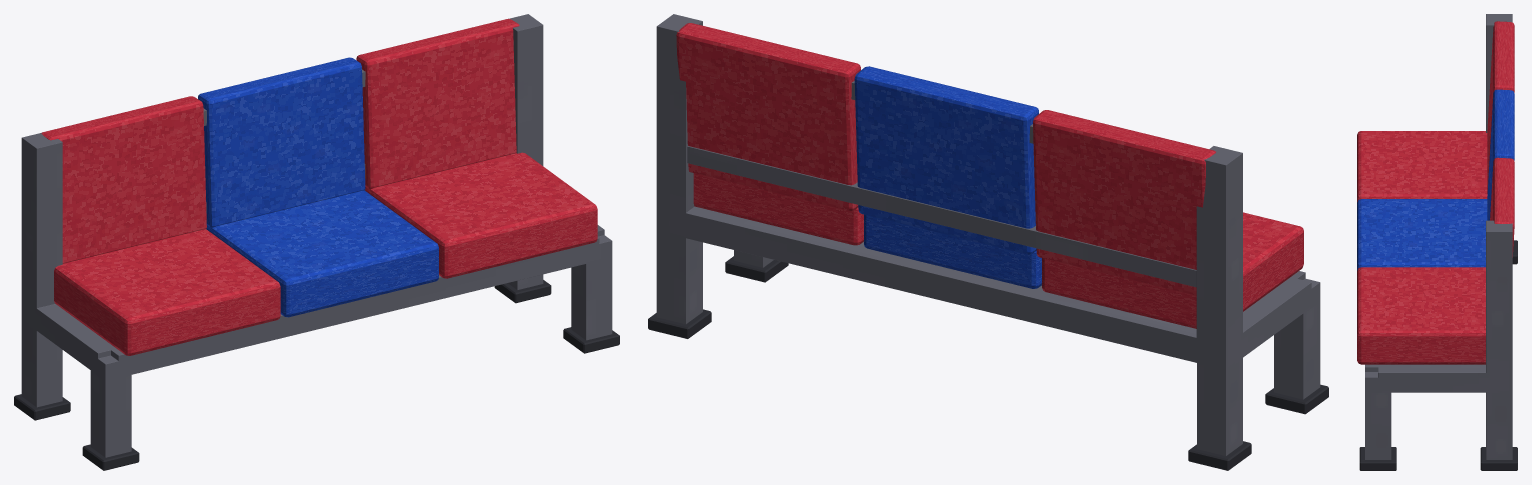
Rendered from bench_three_seat_red_blue_red.glb.
The picture shows the model from 3 angles, left to right: view 1: azimuth 30°, elevation 25°; view 2: azimuth 150°, elevation 25°; view 3: azimuth 270°, elevation 25°; orthographic projection. The views are drawn at different scales.
Visible parts, largest first — view 1: joined_square_metal_frame, back_2_flattened_cushion, back_3_flattened_cushion, back_1_flattened_cushion, seat_1_flattened_cushion, seat_2_flattened_cushion, seat_3_flattened_cushion, left_front_dark_foot_cap, left_rear_dark_foot_cap, right_front_dark_foot_cap, right_rear_dark_foot_cap; view 2: joined_square_metal_frame, back_2_flattened_cushion, back_3_flattened_cushion, back_1_flattened_cushion, seat_1_flattened_cushion, seat_2_flattened_cushion, seat_3_flattened_cushion, left_front_dark_foot_cap, left_rear_dark_foot_cap, right_rear_dark_foot_cap, right_front_dark_foot_cap; view 3: seat_3_flattened_cushion, joined_square_metal_frame, seat_2_flattened_cushion, seat_1_flattened_cushion, back_1_flattened_cushion, back_2_flattened_cushion, back_3_flattened_cushion, right_front_dark_foot_cap, right_rear_dark_foot_cap.
Part boxes in pixels (box(x1,y1,x2,y2)): joined_square_metal_frame: box(21, 14, 612, 457); back_2_flattened_cushion: box(198, 57, 365, 227); back_3_flattened_cushion: box(356, 18, 519, 188); back_1_flattened_cushion: box(41, 96, 206, 263); seat_1_flattened_cushion: box(54, 229, 280, 355); seat_2_flattened_cushion: box(206, 190, 438, 317); seat_3_flattened_cushion: box(365, 152, 597, 278); left_front_dark_foot_cap: box(82, 444, 139, 470); left_rear_dark_foot_cap: box(14, 394, 70, 420); right_front_dark_foot_cap: box(563, 327, 619, 353); right_rear_dark_foot_cap: box(494, 280, 551, 303); joined_square_metal_frame: box(656, 14, 1320, 455); back_2_flattened_cushion: box(854, 66, 1038, 254); back_3_flattened_cushion: box(676, 23, 860, 210); back_1_flattened_cushion: box(1033, 110, 1215, 295); seat_1_flattened_cushion: box(1042, 212, 1303, 328); seat_2_flattened_cushion: box(864, 214, 1041, 288); seat_3_flattened_cushion: box(693, 173, 863, 245); left_front_dark_foot_cap: box(1265, 384, 1328, 414); left_rear_dark_foot_cap: box(1188, 441, 1251, 470); right_rear_dark_foot_cap: box(648, 309, 711, 338); right_front_dark_foot_cap: box(725, 256, 788, 282); seat_3_flattened_cushion: box(1357, 267, 1485, 364); joined_square_metal_frame: box(1365, 14, 1512, 459); seat_2_flattened_cushion: box(1357, 199, 1487, 270); seat_1_flattened_cushion: box(1357, 131, 1487, 202); back_1_flattened_cushion: box(1487, 21, 1514, 193); back_2_flattened_cushion: box(1487, 89, 1514, 220); back_3_flattened_cushion: box(1490, 157, 1514, 257); right_front_dark_foot_cap: box(1359, 447, 1396, 470); right_rear_dark_foot_cap: box(1480, 447, 1517, 470).
Size of the model in its own units: 1.98 by 0.9907 by 0.6055.
4 materials, 4 textured.
